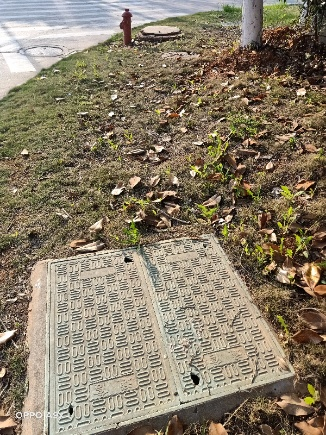good: (43, 231, 298, 435)
